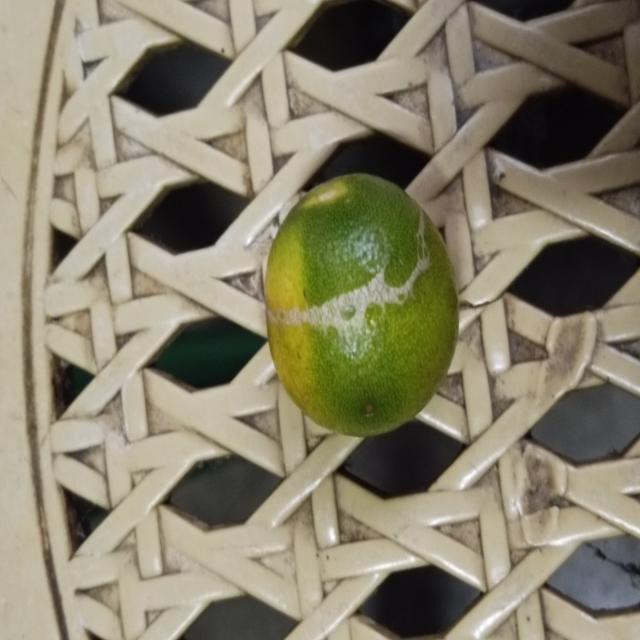thrips: (260, 178, 458, 433)
